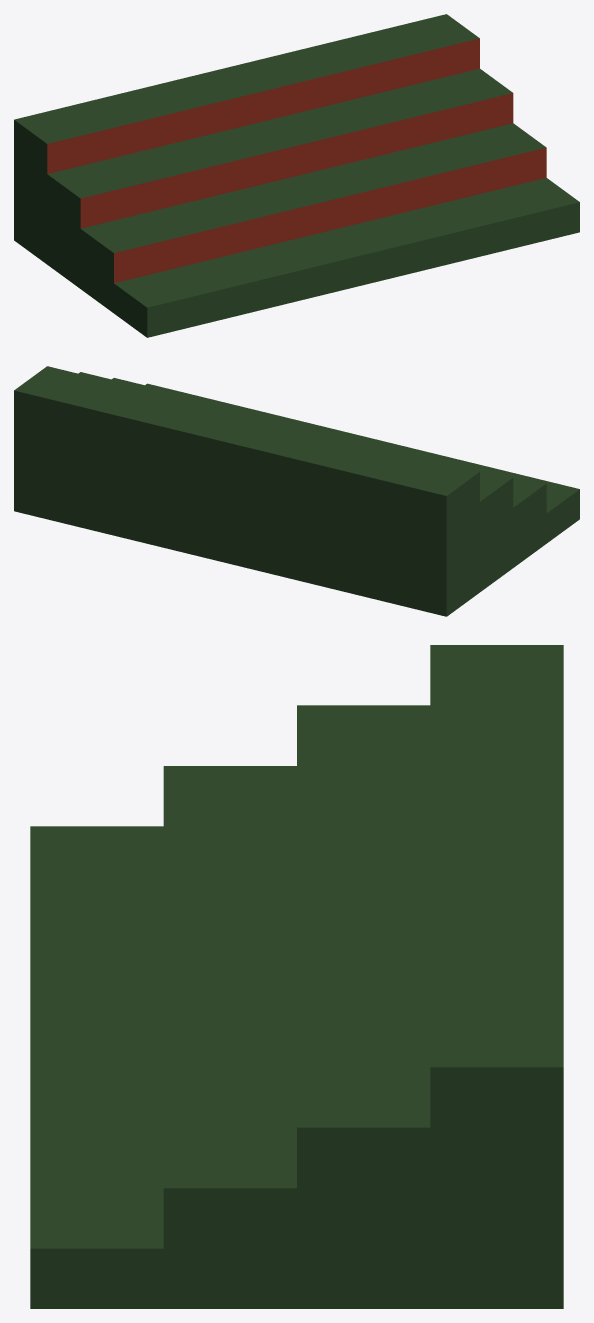
The model's file is city.glb.
The picture shows the model from 3 angles, top to bottom: view 1: azimuth 30°, elevation 25°; view 2: azimuth 150°, elevation 25°; view 3: azimuth 270°, elevation 25°; orthographic projection. The views are drawn at different scales.
Parts seen in each view (by area): view 1: Plane; view 2: Plane; view 3: Plane.
Boxes of the visible parts, left/top/right/bottom form: Plane: left=14, top=14, right=579, bottom=337; Plane: left=14, top=366, right=579, bottom=616; Plane: left=30, top=645, right=563, bottom=1308.
Size of the model in its own units: 30 by 8 by 16.
